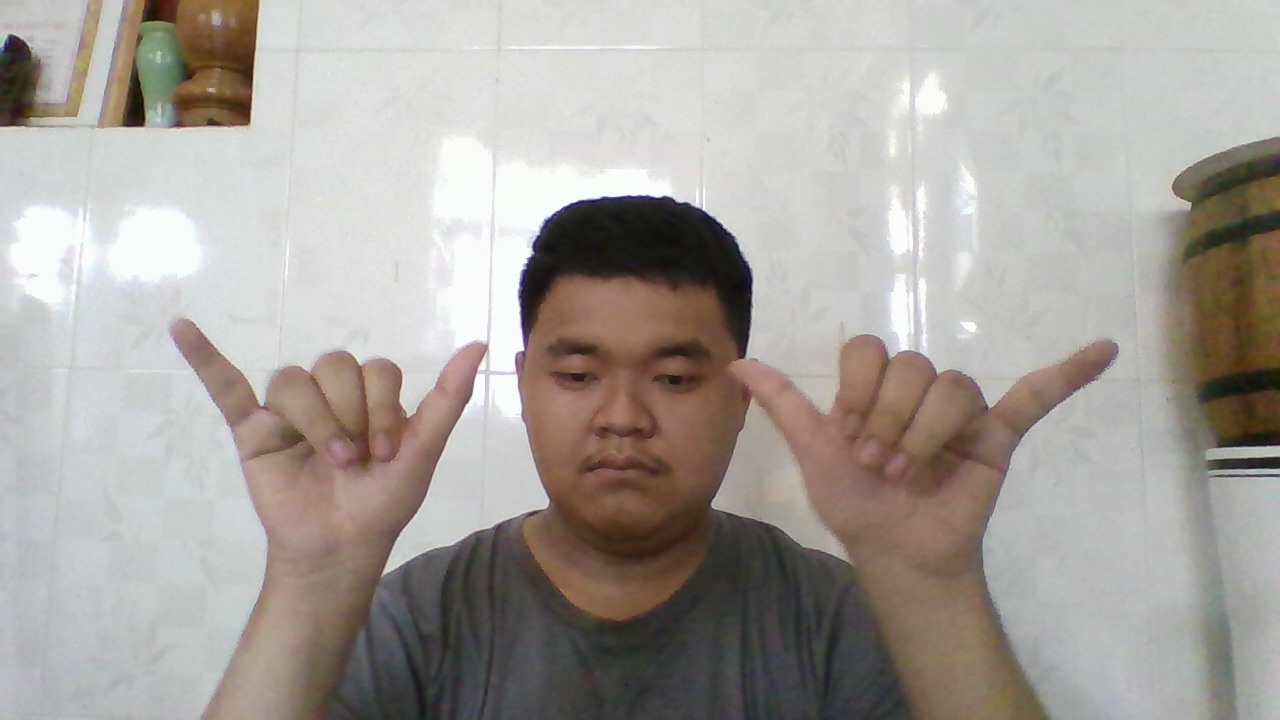Y: (728, 329, 1117, 573), (166, 310, 486, 572)
